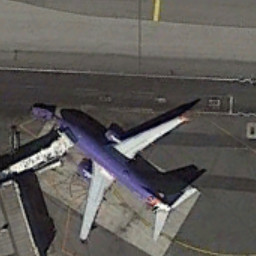Airplane: (44, 104, 203, 246)
